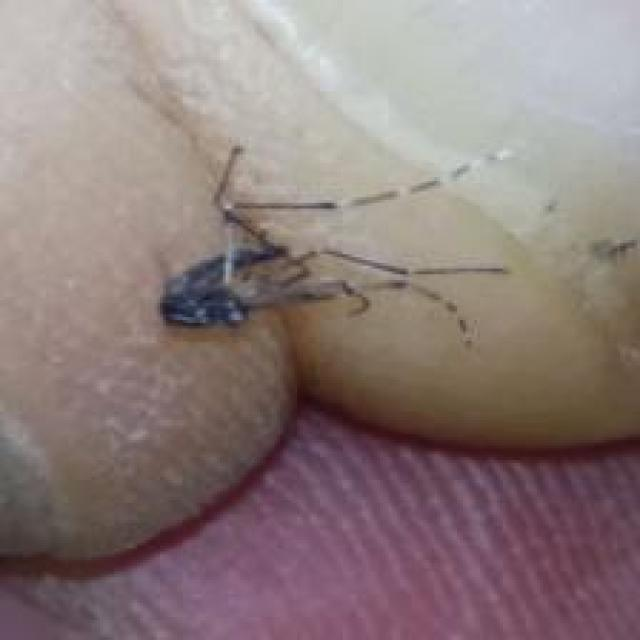Aedes albopictus: (157, 140, 514, 340)
